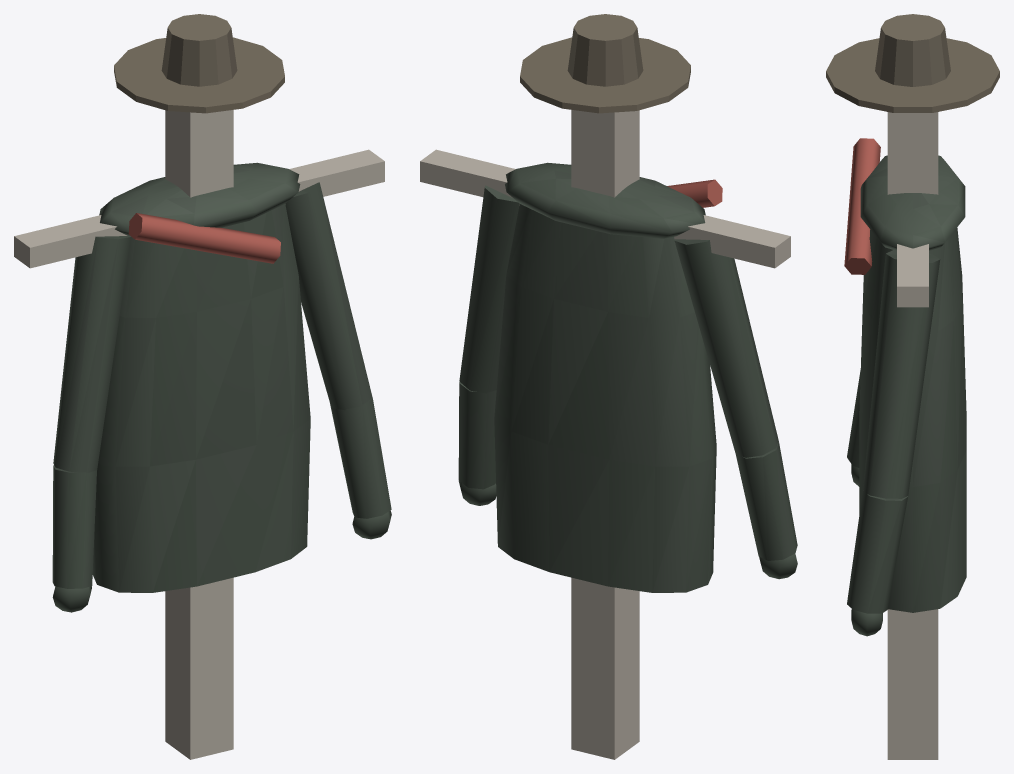
File: storm_coat_post_a.glb
The picture shows the model from 3 angles, left to right: view 1: azimuth 30°, elevation 25°; view 2: azimuth 150°, elevation 25°; view 3: azimuth 270°, elevation 25°; orthographic projection.
Visible parts, largest first — view 1: body; view 2: body; view 3: body.
Boxes of the visible parts, left/top/right/bottom form: body: left=14, top=14, right=391, bottom=759; body: left=420, top=14, right=797, bottom=759; body: left=826, top=14, right=999, bottom=759.
Bounding box in the file's own units: 0.9 × 1.74 × 0.38.
